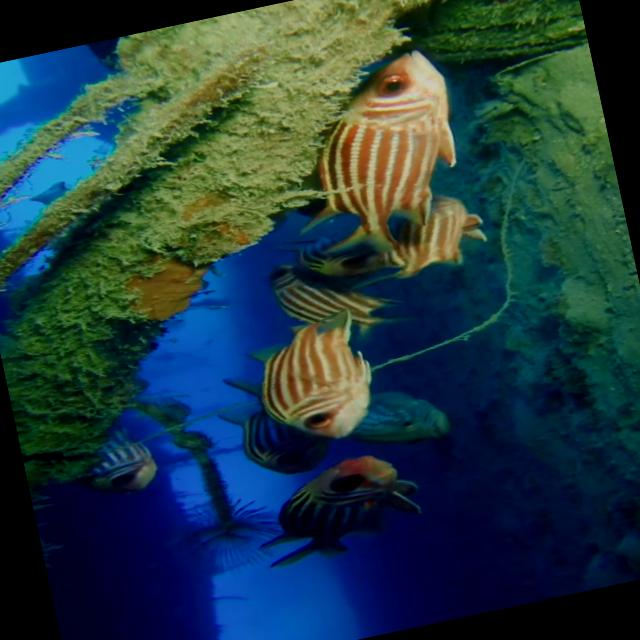Asker Baligi: (264, 41, 482, 274), (240, 443, 430, 571), (239, 292, 378, 448), (62, 432, 184, 504)
